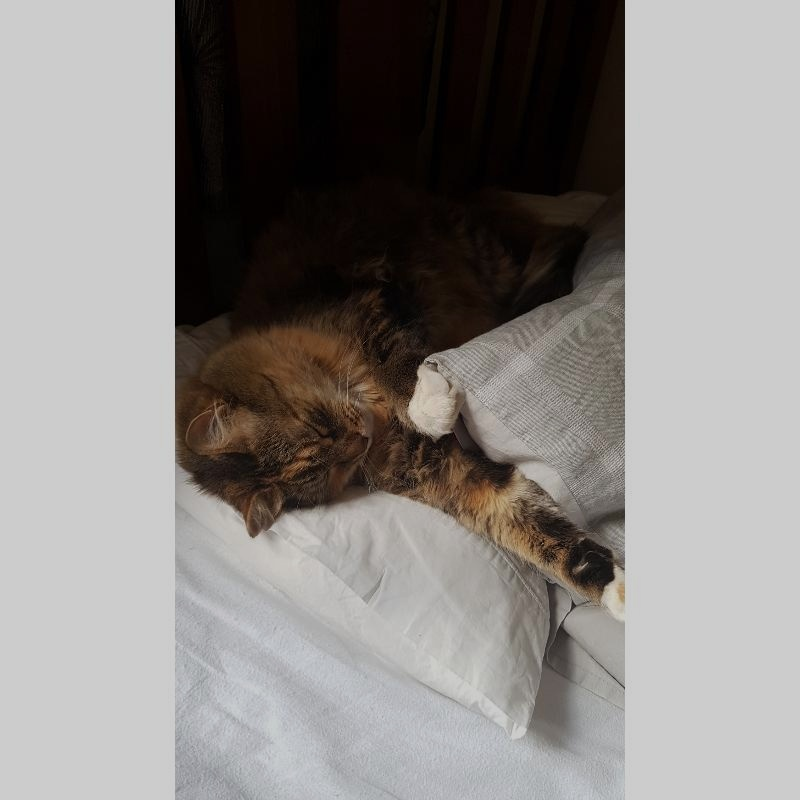yellow: (181, 282, 623, 626)
